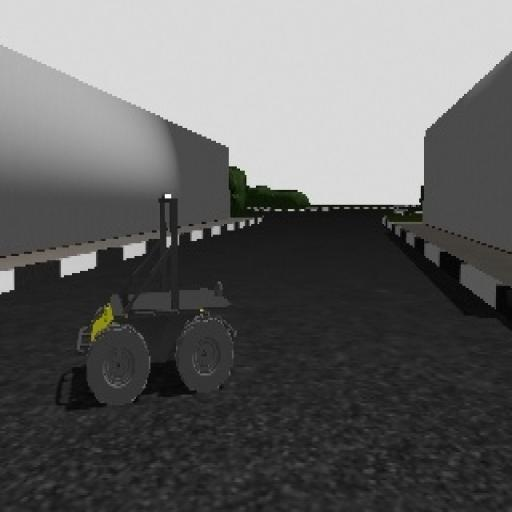huskya200: (70, 178, 246, 397)
